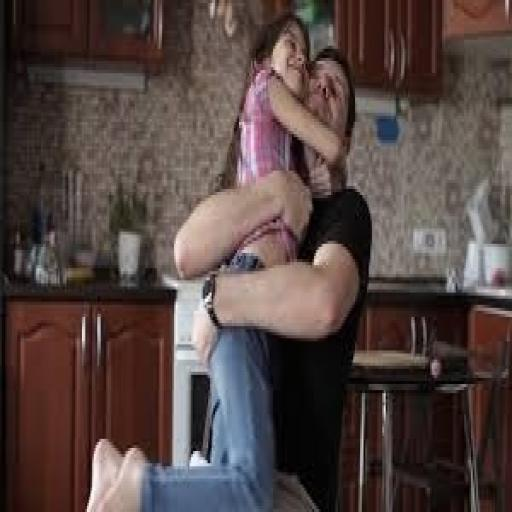hugging: (84, 15, 374, 509)
